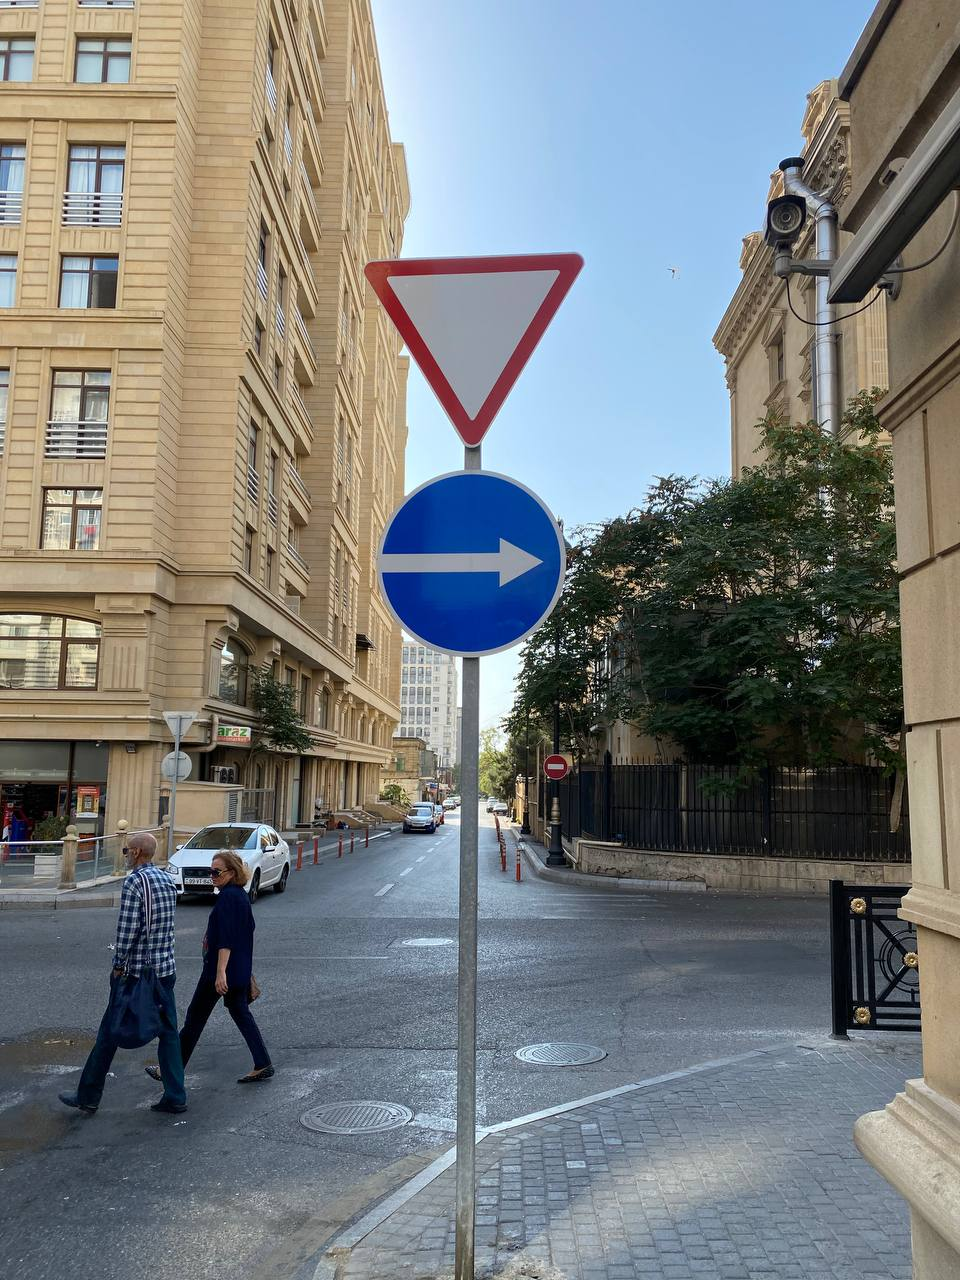Give Way: (363, 254, 586, 447)
Turn Right: (374, 469, 567, 657)
